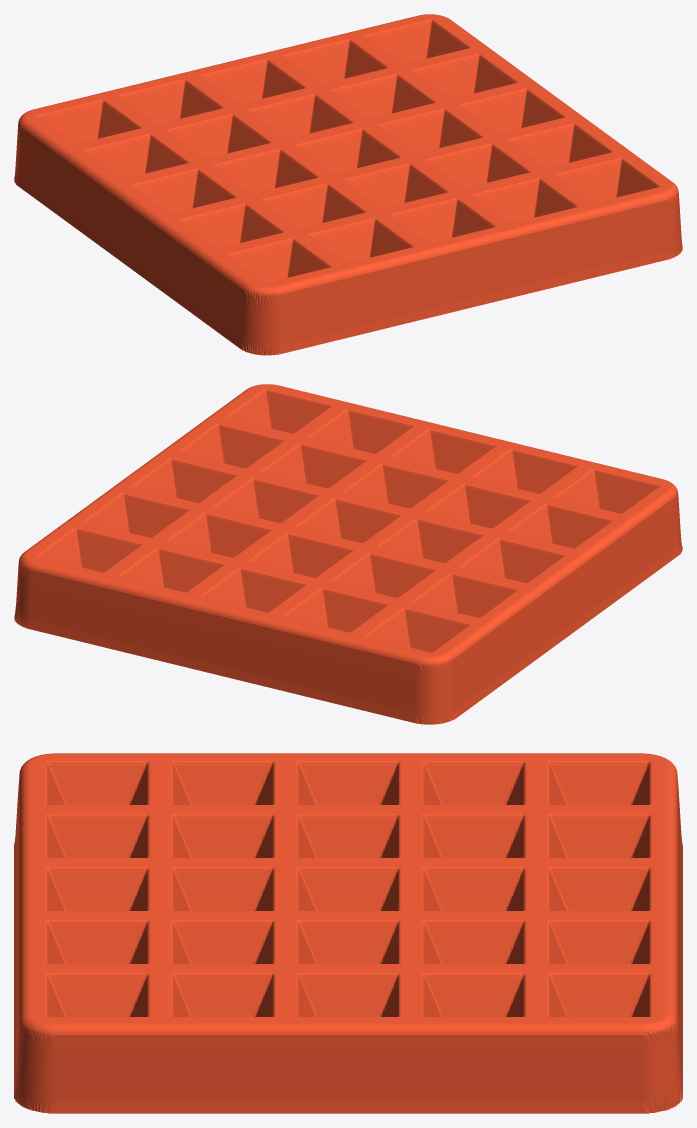
Rendered from mold.glb.
3 views of the same model, one above another, from view 1: azimuth 30°, elevation 25°; view 2: azimuth 150°, elevation 25°; view 3: azimuth 270°, elevation 25° (orthographic). The views are drawn at different scales.
Parts seen in each view (by area): view 1: geometry_0; view 2: geometry_0; view 3: geometry_0.
Part boxes in pixels (x1,y1,x2,y2): geometry_0: [14, 14, 682, 355]; geometry_0: [14, 384, 682, 724]; geometry_0: [14, 753, 682, 1113].
Bounding box in the file's own units: 0.1483 × 0.0204 × 0.1483.
